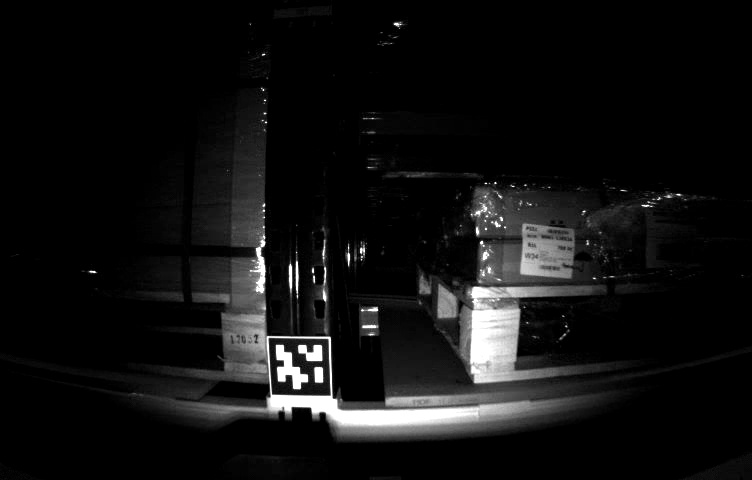True Barcode: (521, 221, 571, 283)
